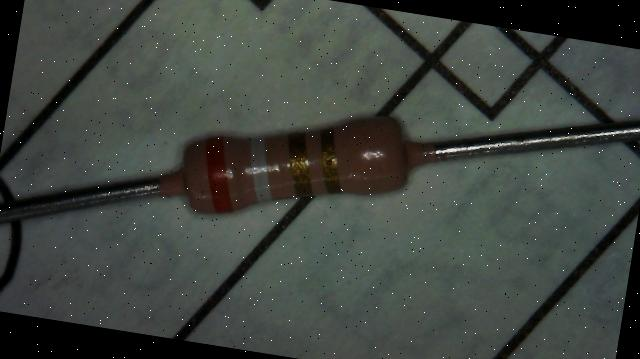gold: (280, 130, 321, 198), (312, 126, 349, 194)
orange: (196, 138, 244, 214)
resistor: (163, 102, 438, 244)
white: (242, 136, 281, 202)
